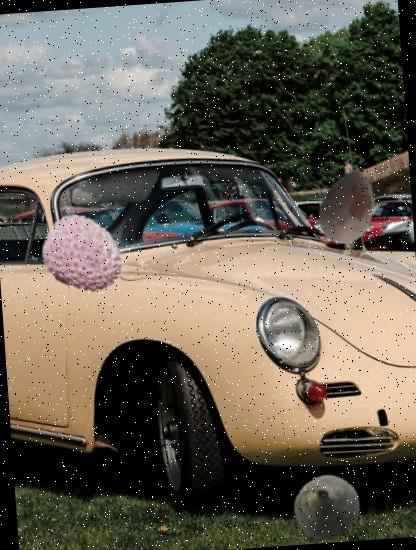Beetroot: (289, 469, 363, 543)
Lychee: (37, 208, 128, 300)
Potato: (307, 164, 392, 250)
